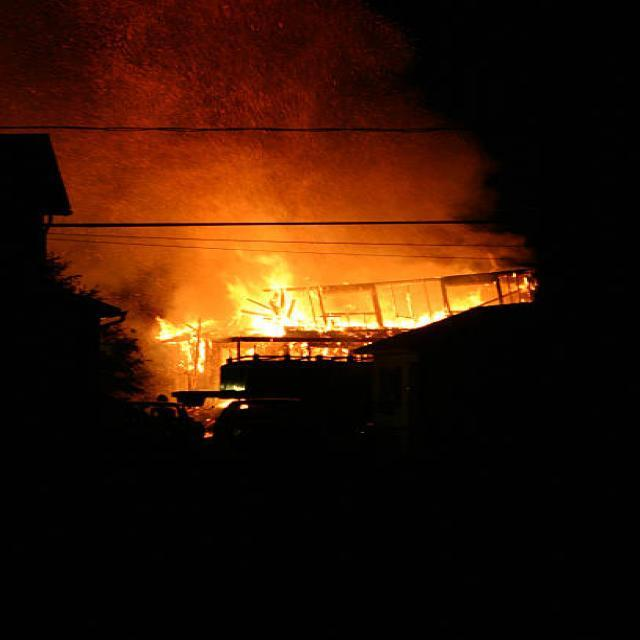Fire: (204, 246, 482, 341), (157, 314, 210, 378)
Smoke: (46, 1, 517, 293)
